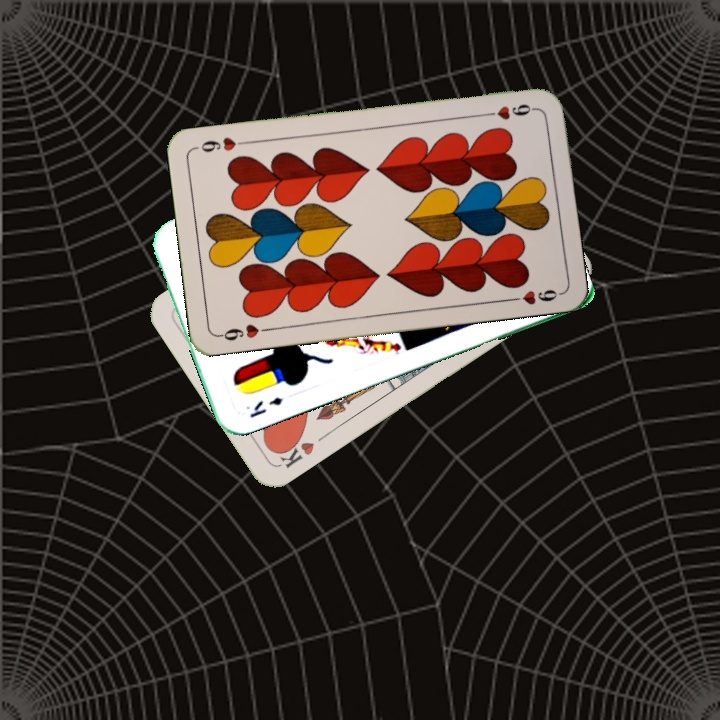EK: (245, 392, 285, 421)
H9: (214, 320, 273, 344), (479, 100, 539, 123)
HK: (272, 432, 317, 471)
